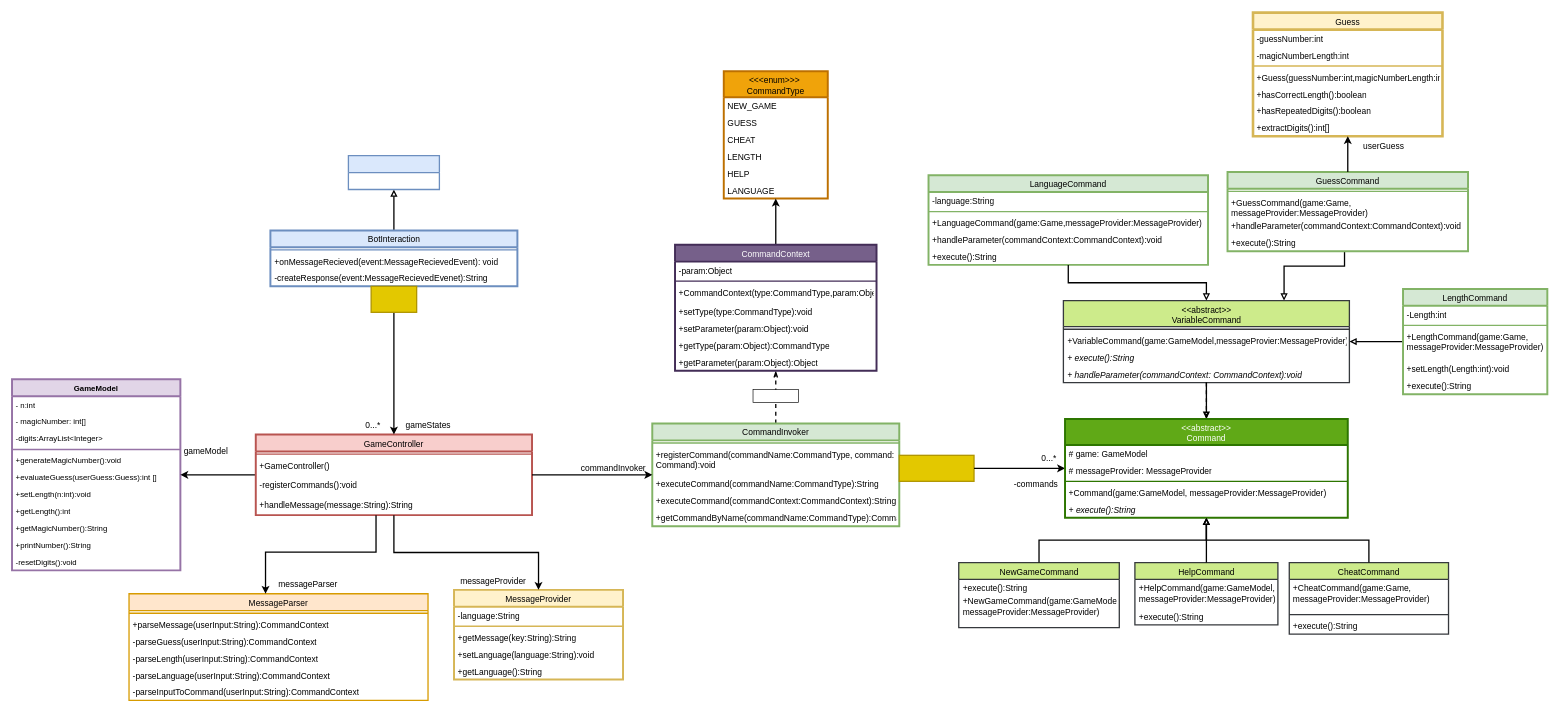
This 1559x713 diagram has some shape labels left out. Each missing label, with the centre of its shape:
"key: CommandType" belongs at point (936, 468).
"key: String" belongs at point (393, 299).
"ListenerAdapter" belongs at point (393, 172).
"uses" belongs at point (775, 396).
